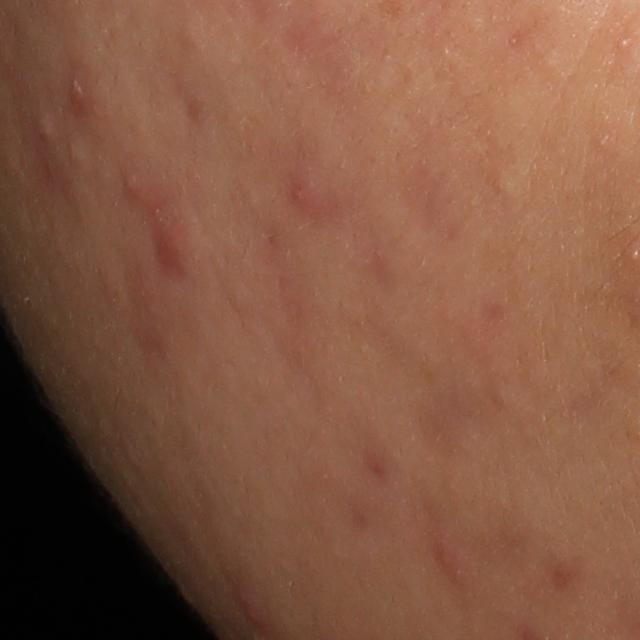comedo: (63, 137, 88, 172), (488, 166, 516, 197), (35, 114, 60, 147), (614, 32, 632, 52)
papule: (281, 156, 342, 228), (149, 200, 197, 285), (116, 143, 168, 209), (434, 532, 472, 587), (238, 593, 269, 634), (61, 77, 89, 113)
